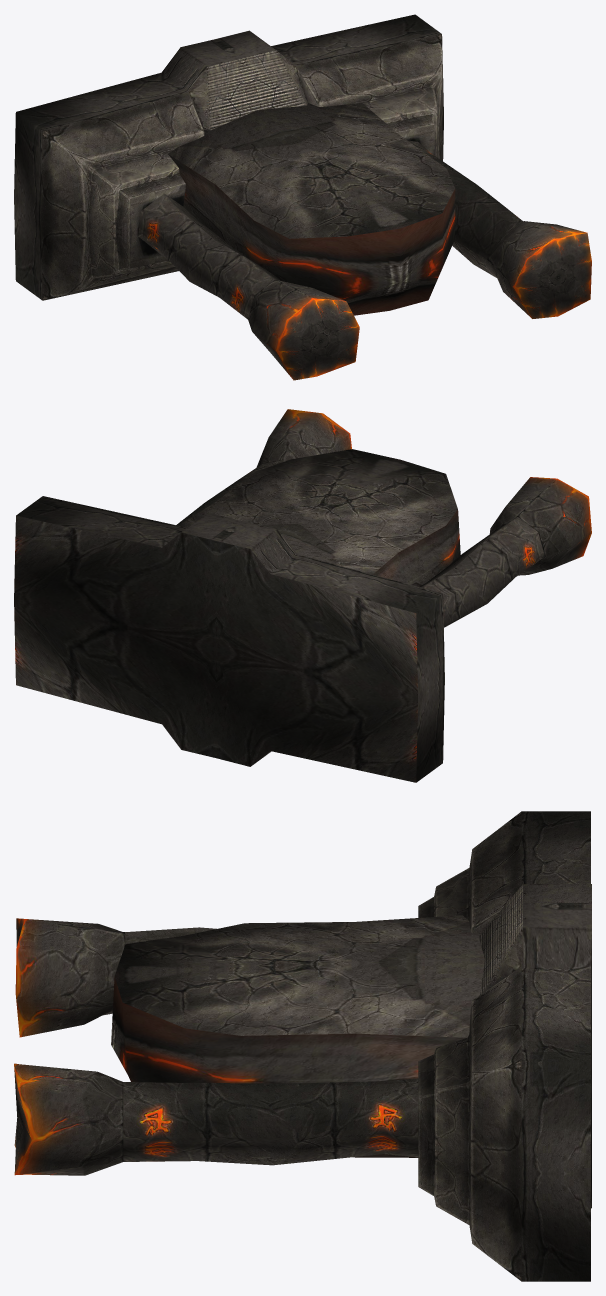
File: Altar-gate-05.obj
3 renders of one model, top to bottom at view 1: azimuth 30°, elevation 25°; view 2: azimuth 150°, elevation 25°; view 3: azimuth 270°, elevation 25°, orthographic. The views are drawn at different scales.
Visible parts, largest first — view 1: (null); view 2: (null); view 3: (null).
Boxes of the visible parts, x1=… form: (null): x1=14, y1=14, x2=591, y2=380; (null): x1=14, y1=409, x2=591, y2=782; (null): x1=14, y1=811, x2=591, y2=1281.
Size of the model in its own units: 7.83 by 4.04 by 7.52.
